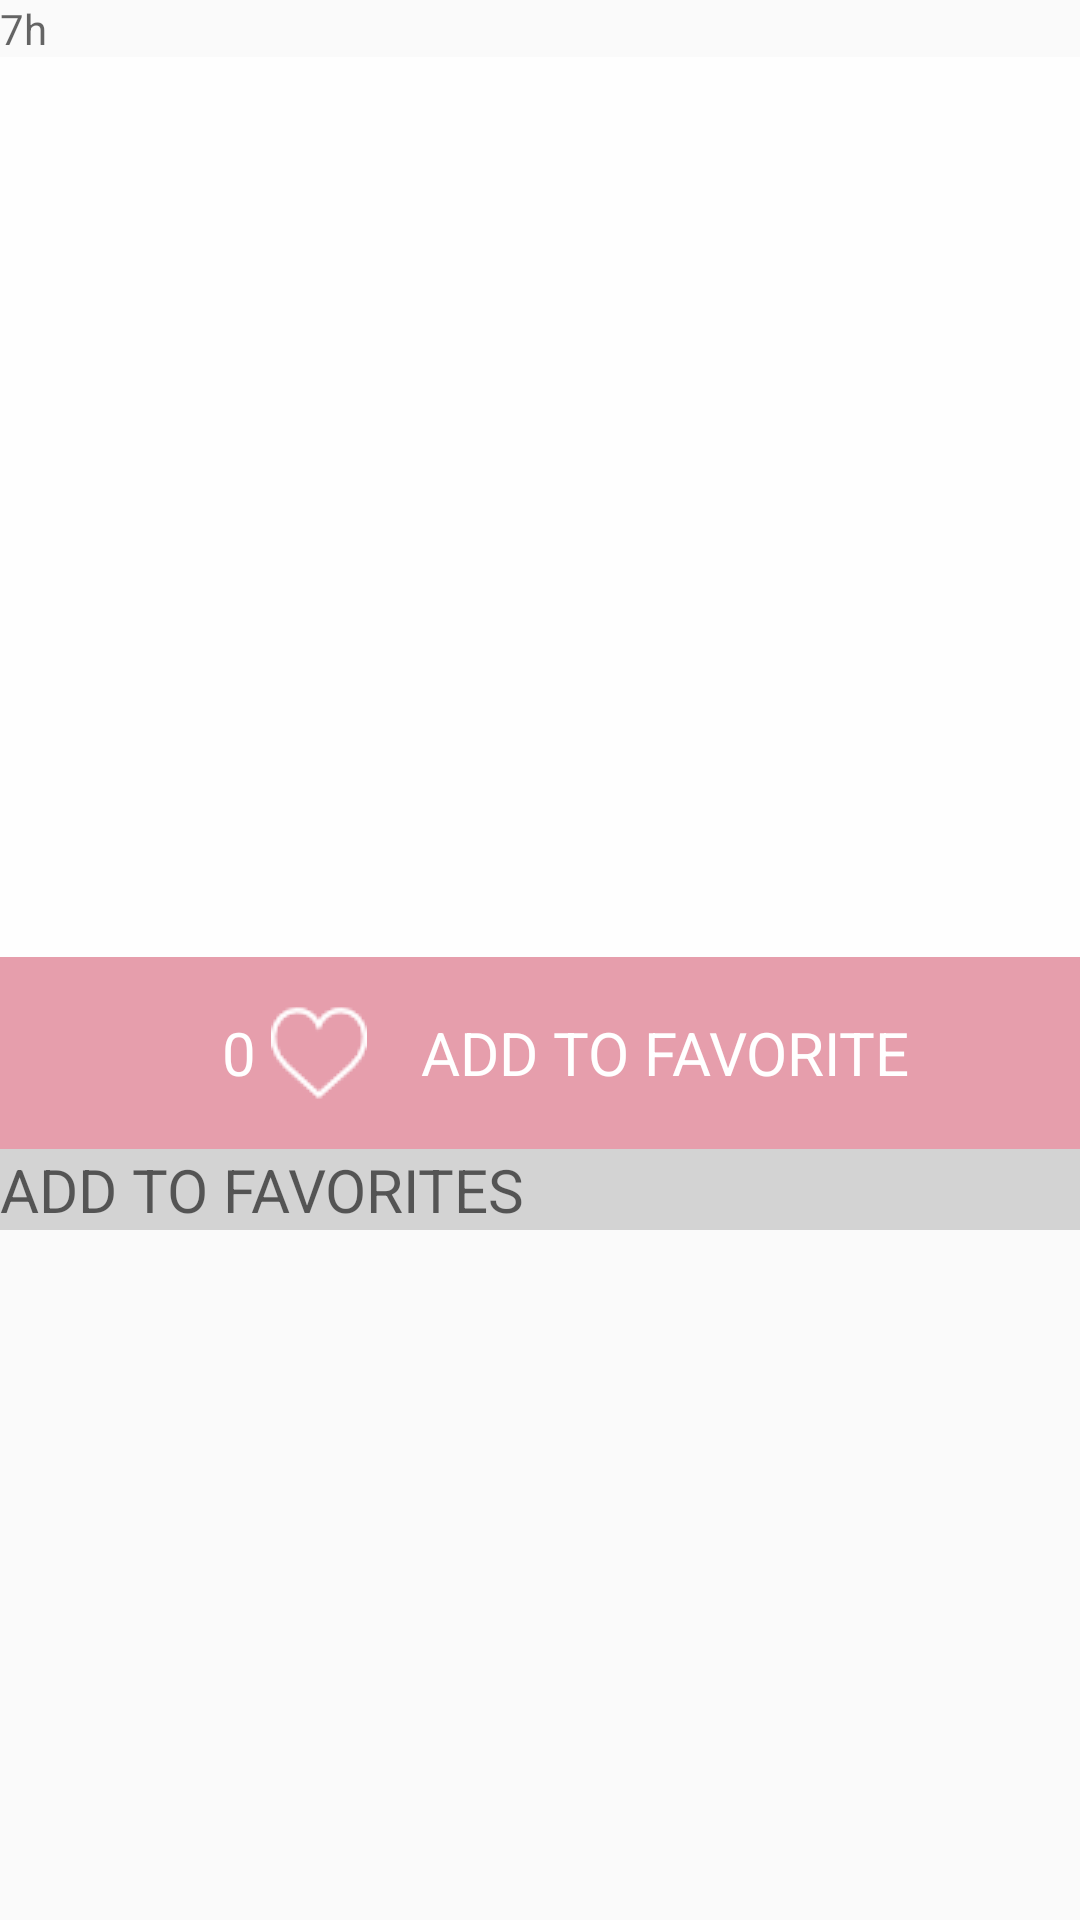

Icon click points for this 1080 x 1920 phone screenshot, format [x,y]:
likee: [319,1053]
